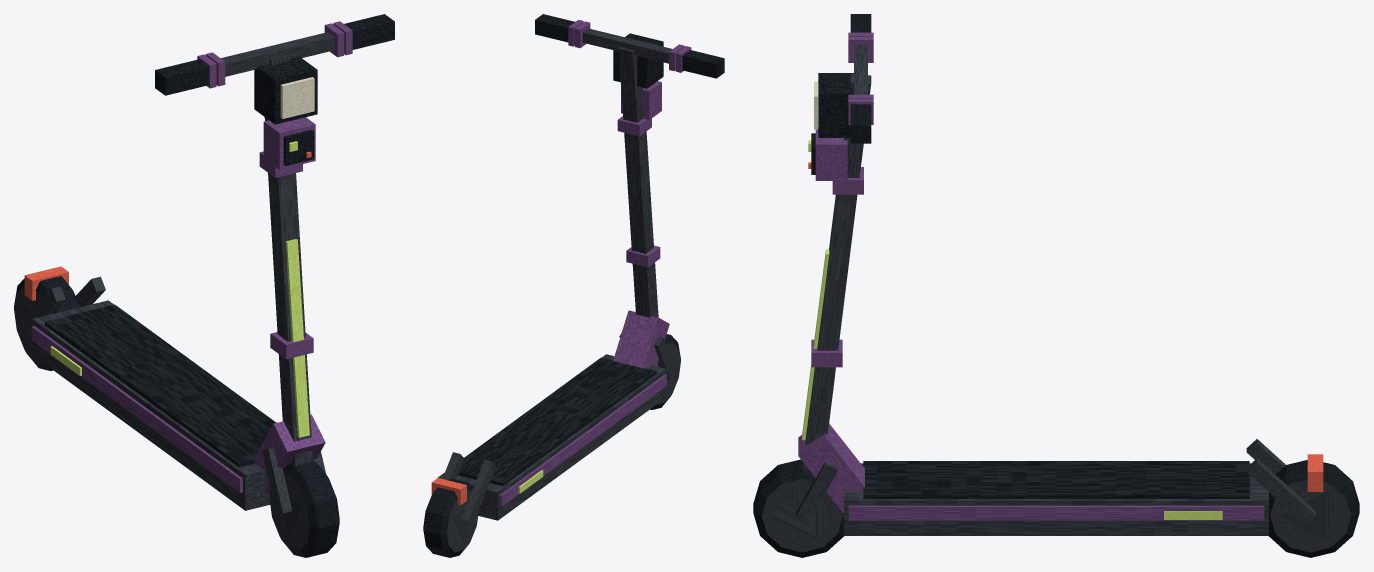
The model's file is PROP_Scooter.fbx.
3 renders of one model, left to right at view 1: azimuth 30°, elevation 25°; view 2: azimuth 150°, elevation 25°; view 3: azimuth 270°, elevation 25°, orthographic. The views are drawn at different scales.
Visible parts, largest first — view 1: M_Scooter_Frame, M_Steering, M_Wheel_F, M_Wheel_R; view 2: M_Scooter_Frame, M_Steering, M_Wheel_R, M_Wheel_F; view 3: M_Scooter_Frame, M_Steering, M_Wheel_R, M_Wheel_F.
Boxes of the visible parts, x1,y1,x2,y2 form: M_Scooter_Frame: (22,266,325,510); M_Steering: (155,14,394,514); M_Wheel_F: (269,460,339,557); M_Wheel_R: (14,276,79,370); M_Scooter_Frame: (431,310,669,525); M_Steering: (535,14,724,379); M_Wheel_R: (423,478,478,557); M_Wheel_F: (650,334,680,409); M_Scooter_Frame: (798,423,1323,535); M_Steering: (795,14,873,523); M_Wheel_R: (1269,460,1359,557); M_Wheel_F: (753,459,843,557).
Size of the model in its own units: 54 by 110 by 124.
1 material, 1 textured.
